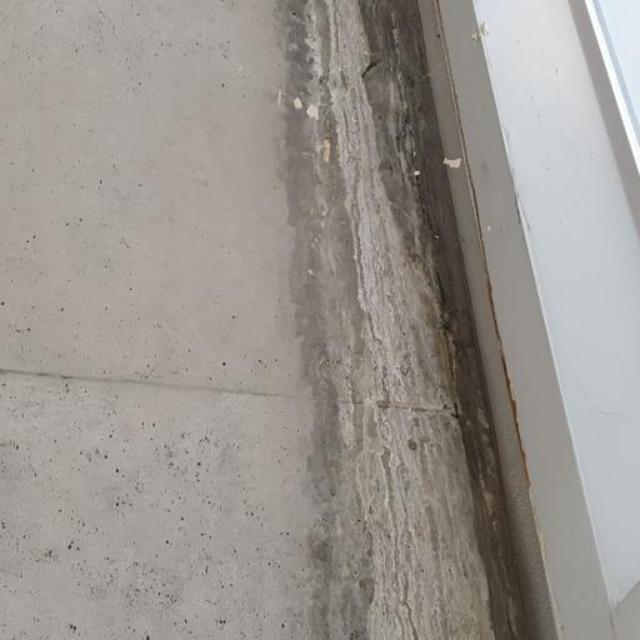D01: (306, 2, 493, 639)
